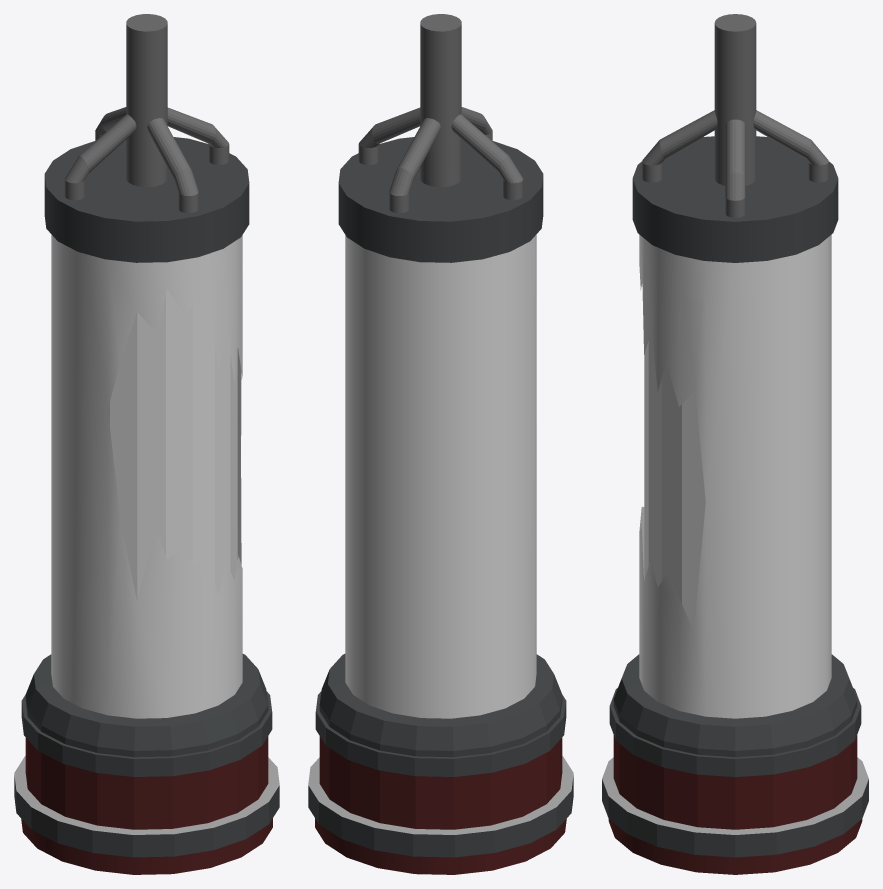
File: Test_Tube_Broekn.fbx
The picture shows the model from 3 angles, left to right: view 1: azimuth 30°, elevation 25°; view 2: azimuth 150°, elevation 25°; view 3: azimuth 270°, elevation 25°; orthographic projection.
Visible parts, largest first — view 1: Glass_Tube, Base, Tube_top, Pipe_Center, Pipe_02, Pipe_01, Pipe_04; view 2: Glass_Tube, Base, Tube_top, Pipe_Center, Pipe_02, Pipe_03, Pipe_04; view 3: Glass_Tube, Base, Tube_top, Pipe_Center, Pipe_04, Pipe_01, Pipe_03.
Boxes of the visible parts, box(x1,y1,x2,y2) form: Glass_Tube: box(51, 234, 242, 718); Base: box(14, 654, 279, 874); Tube_top: box(44, 137, 249, 262); Pipe_Center: box(126, 14, 167, 186); Pipe_02: box(64, 114, 136, 200); Pipe_01: box(147, 118, 198, 212); Pipe_04: box(167, 107, 229, 164); Glass_Tube: box(345, 234, 536, 718); Base: box(308, 654, 573, 874); Tube_top: box(338, 137, 543, 262); Pipe_Center: box(420, 14, 461, 186); Pipe_02: box(451, 114, 523, 200); Pipe_03: box(389, 118, 440, 212); Pipe_04: box(358, 107, 420, 164); Glass_Tube: box(639, 235, 831, 718); Base: box(602, 654, 868, 874); Tube_top: box(632, 136, 838, 262); Pipe_Center: box(714, 14, 756, 185); Pipe_04: box(725, 119, 745, 217); Pipe_01: box(642, 110, 717, 182); Pipe_03: box(753, 110, 828, 182).
Bounding box in the file's own units: 101 × 332 × 101.
